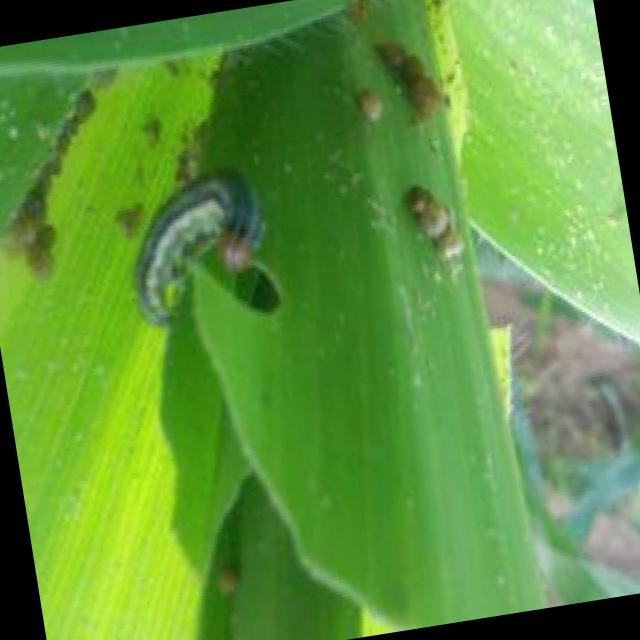pest: (123, 174, 275, 346)
